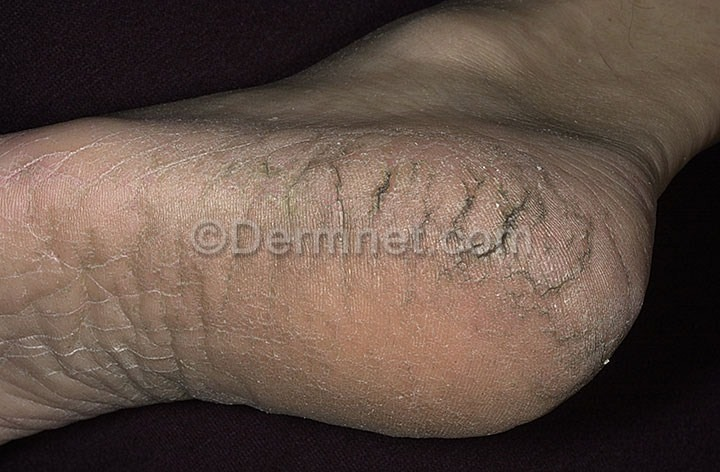Eczema: (199, 122, 322, 250), (409, 168, 533, 292), (308, 141, 421, 261), (519, 186, 629, 297), (523, 270, 633, 372), (44, 140, 162, 233), (126, 123, 227, 226), (18, 272, 107, 358), (169, 267, 252, 354), (0, 344, 80, 428), (226, 339, 307, 420), (74, 329, 149, 403), (146, 320, 225, 390), (86, 250, 157, 326), (131, 278, 182, 346)
